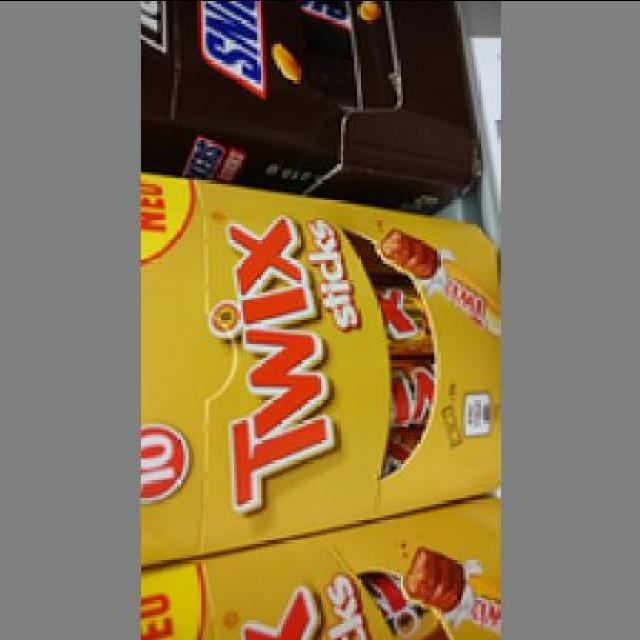Chocolate bar: (200, 188, 500, 548), (137, 6, 477, 177)
